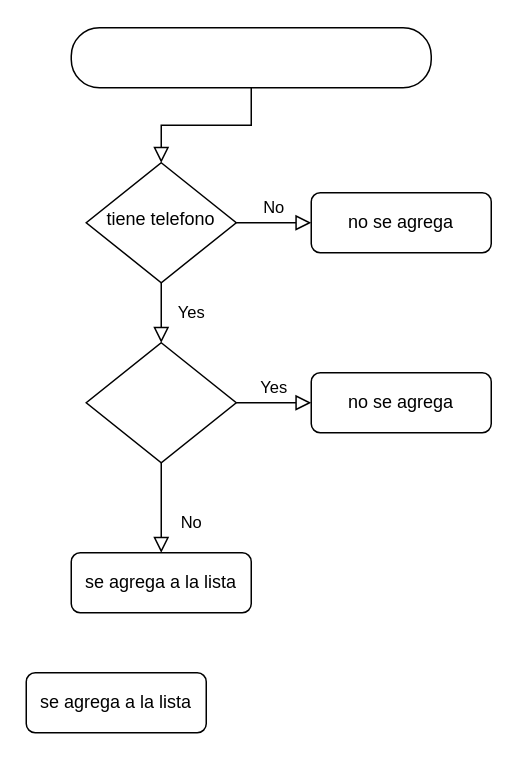
The diagram is 518 pixels wide and 759 high, and some of its shapes have lost their labels. The shapes that lost their labels are listed below. From the top down, each one's centre as x and y in pixels, then its label:
At point (250, 57): "nom1 = gaby nom2 = gab2 nom3 = min".
At point (160, 402): "tiene correo?".
